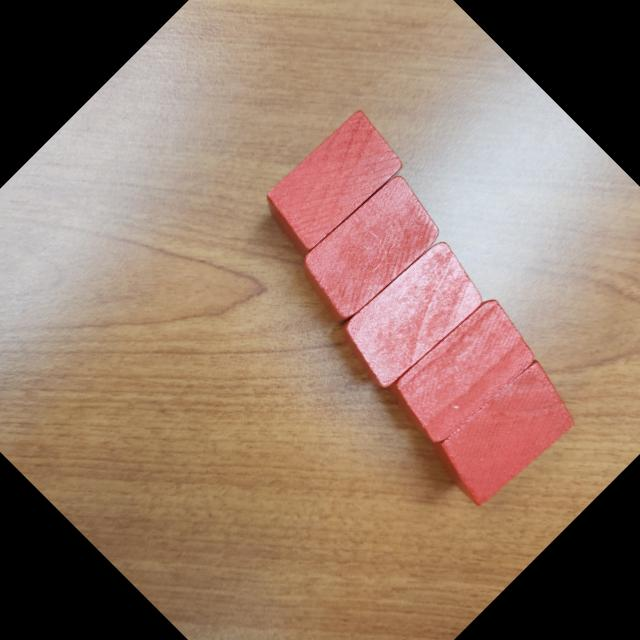red: (420, 348, 588, 514), (330, 232, 494, 397), (380, 291, 544, 456), (289, 168, 451, 330), (252, 104, 410, 261)
